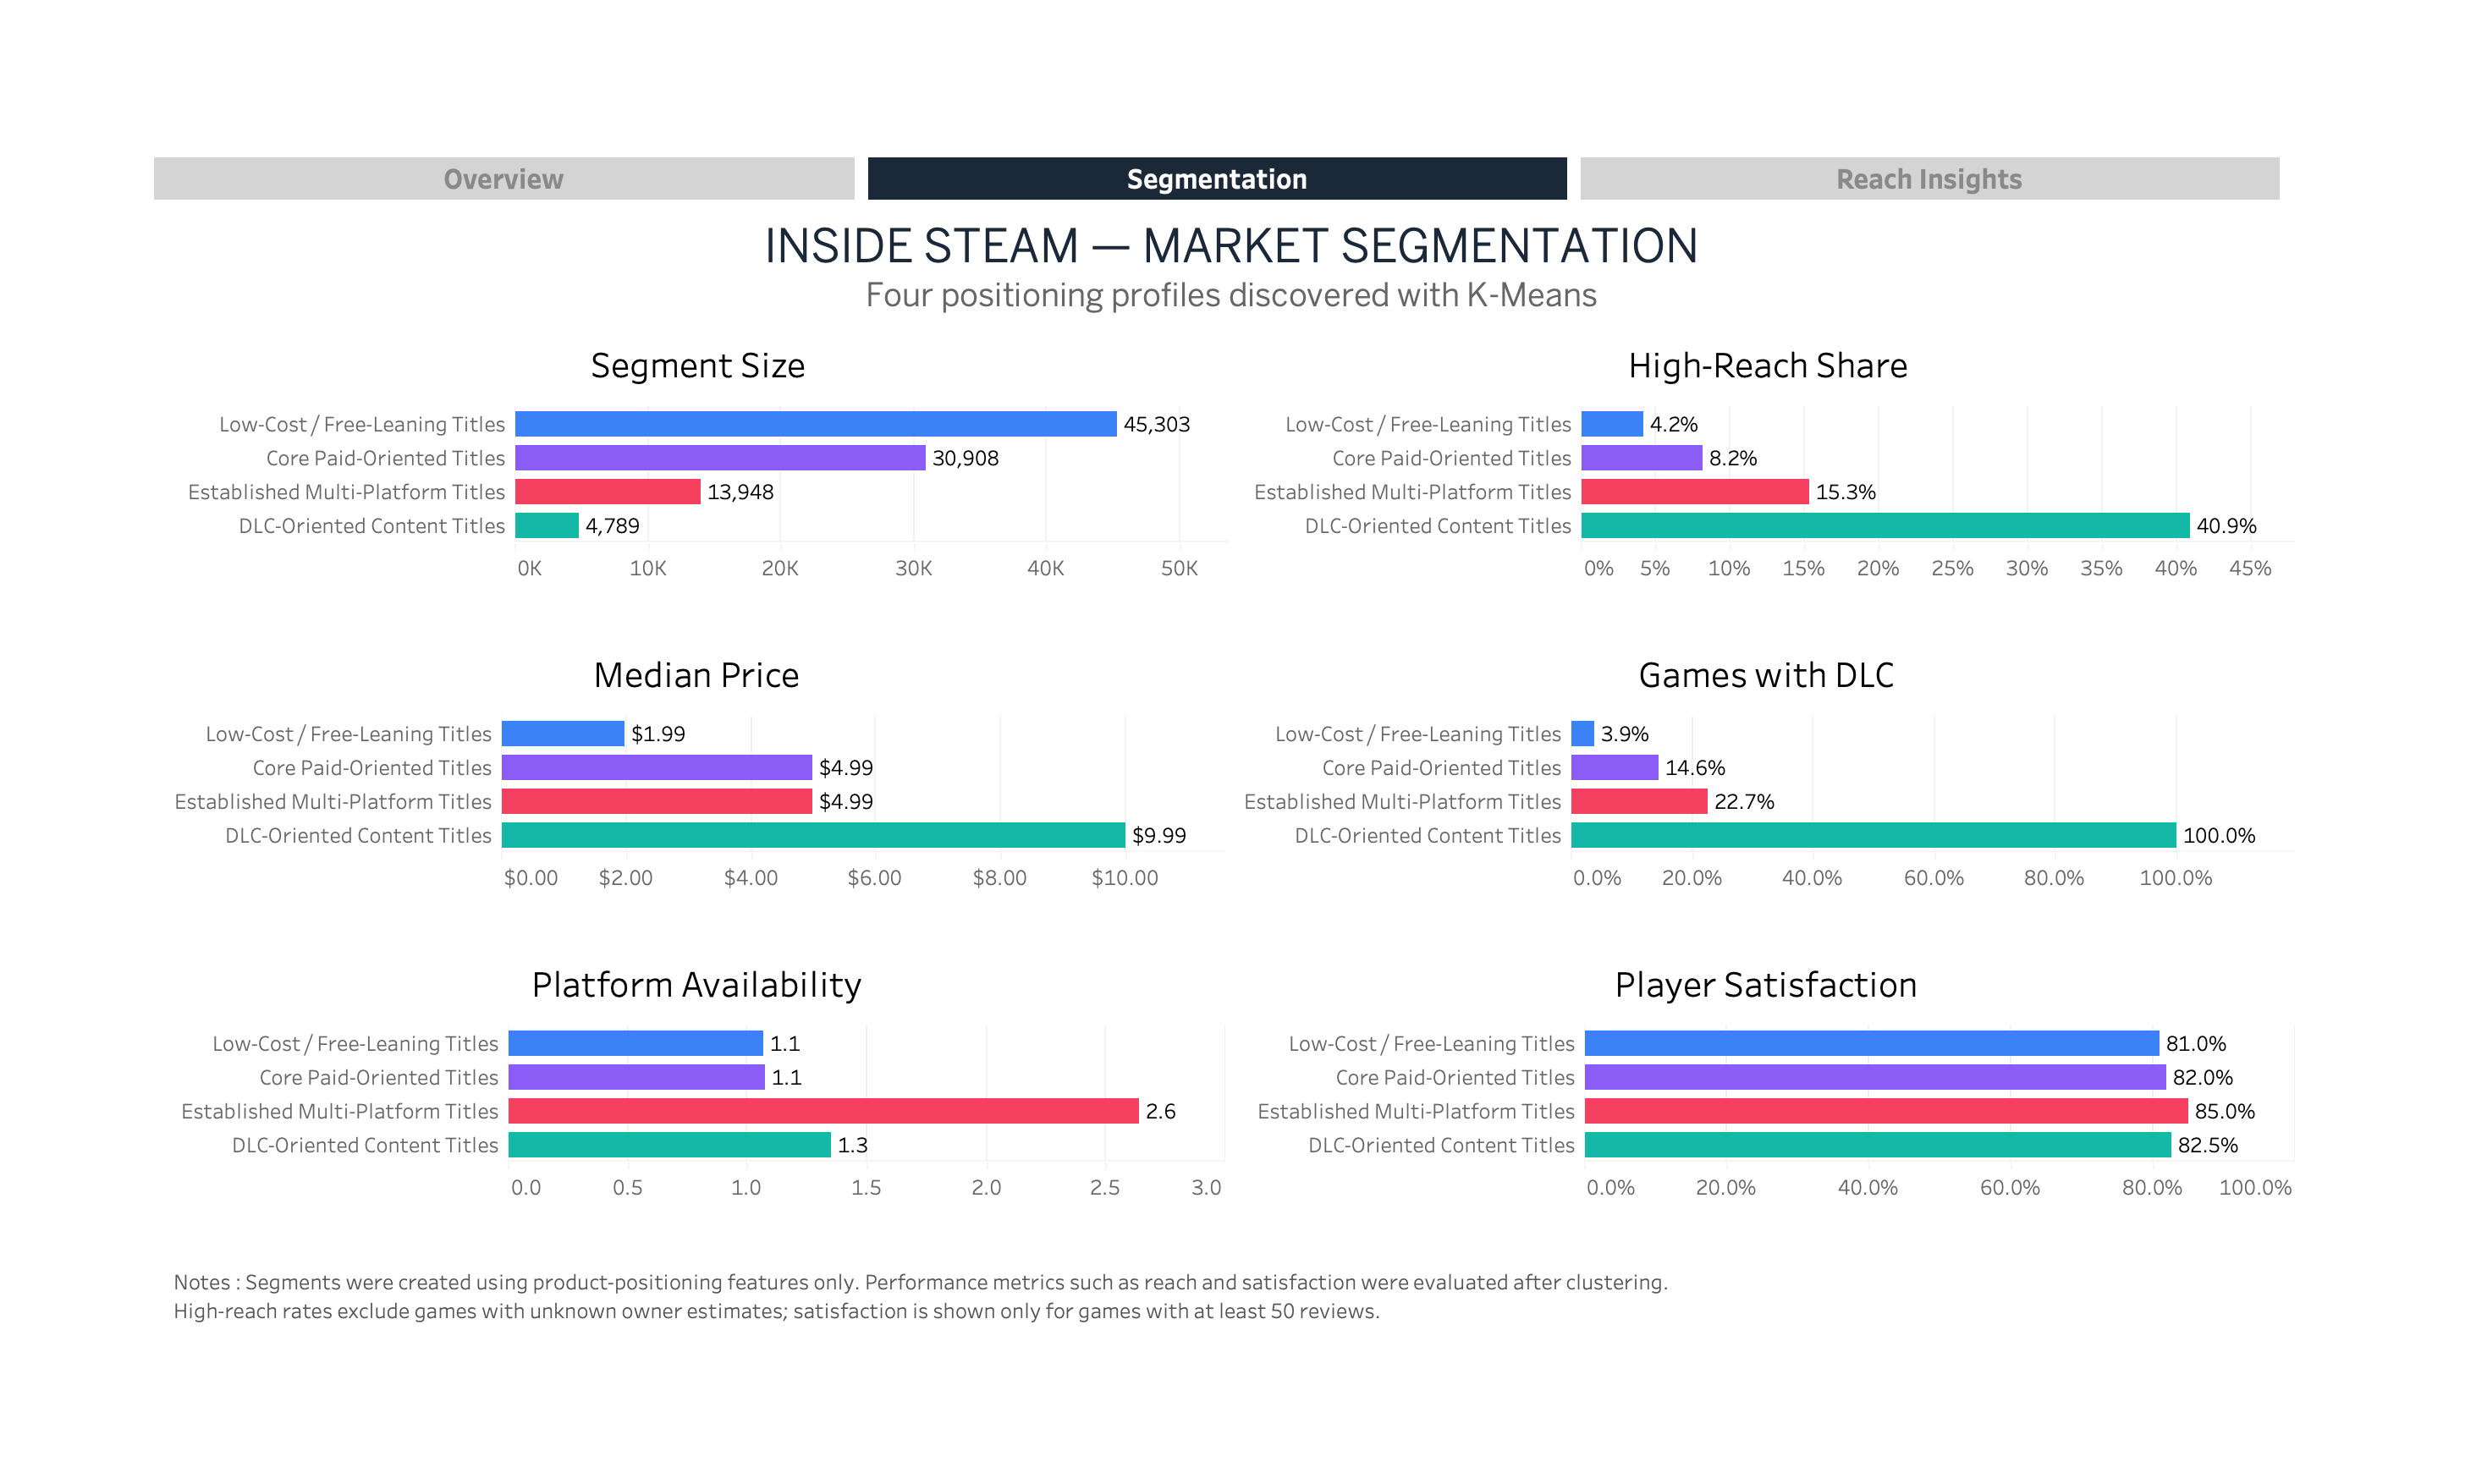

The page's visual inventory and layout, read from the dashboard file:
{"tool":"tableau","page":{"name":"02 — Market Segmentation","canvas":[1280,720],"ordinal":1},"visuals":[{"type":"text","box":[8,8,1264,107]},{"type":"dashboard-object","box":[421,11,421,33]},{"type":"dashboard-object","box":[842,11,421,33]},{"type":"worksheet","title":"Segments — Size","mark":"Bar","rows":["segment_name"],"cols":["appid"],"box":[8,115,634,183]},{"type":"worksheet","title":"Segments — High Reach","mark":"Bar","rows":["segment_name"],"cols":["Calculation_0553520230105089"],"box":[642,115,630,183]},{"type":"worksheet","title":"Segments — Median Price","mark":"Bar","rows":["segment_name"],"cols":["price"],"box":[8,298,632,183]},{"type":"worksheet","title":"Segments — DLC Share","mark":"Bar","rows":["segment_name"],"cols":["Calculation_0553520247283714"],"box":[640,298,632,183]},{"type":"worksheet","title":"Segments — Platform Count","mark":"Bar","rows":["segment_name"],"cols":["Calculation_0553520250384387"],"box":[8,481,632,161]},{"type":"worksheet","title":"Segments — Satisfaction","mark":"Bar","rows":["segment_name"],"cols":["Calculation_1184502562959360"],"box":[640,481,632,183]},{"type":"text","box":[8,664,1264,48]}]}

Visuals, with their boxes on the page's 1280x720 design canvas (x1, y1, x2, y2). These are canvas units, not pixel positions in the 2476x1484 screenshot, which may show the page scaled, cropped or inside an application window:
text: <bbox>8, 8, 1272, 115</bbox>
dashboard-object: <bbox>421, 11, 842, 44</bbox>
dashboard-object: <bbox>842, 11, 1263, 44</bbox>
"Segments — Size" worksheet (Bar marks): <bbox>8, 115, 642, 298</bbox>
"Segments — High Reach" worksheet (Bar marks): <bbox>642, 115, 1272, 298</bbox>
"Segments — Median Price" worksheet (Bar marks): <bbox>8, 298, 640, 481</bbox>
"Segments — DLC Share" worksheet (Bar marks): <bbox>640, 298, 1272, 481</bbox>
"Segments — Platform Count" worksheet (Bar marks): <bbox>8, 481, 640, 642</bbox>
"Segments — Satisfaction" worksheet (Bar marks): <bbox>640, 481, 1272, 664</bbox>
text: <bbox>8, 664, 1272, 712</bbox>
